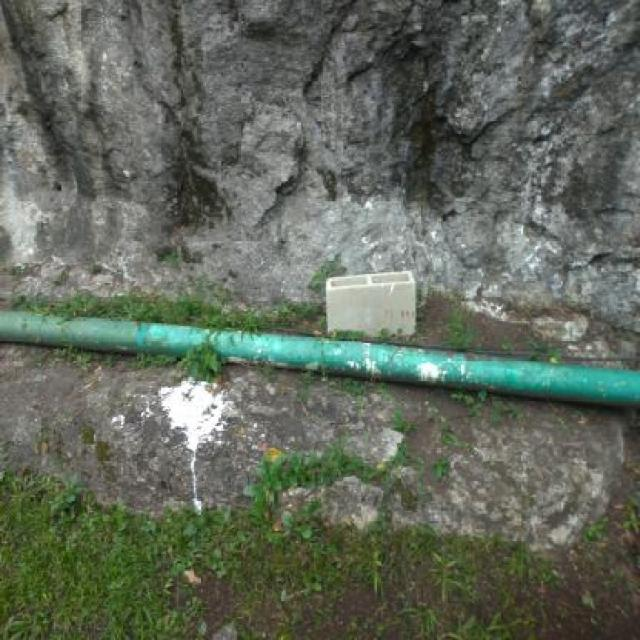gas: (0, 311, 638, 408)
